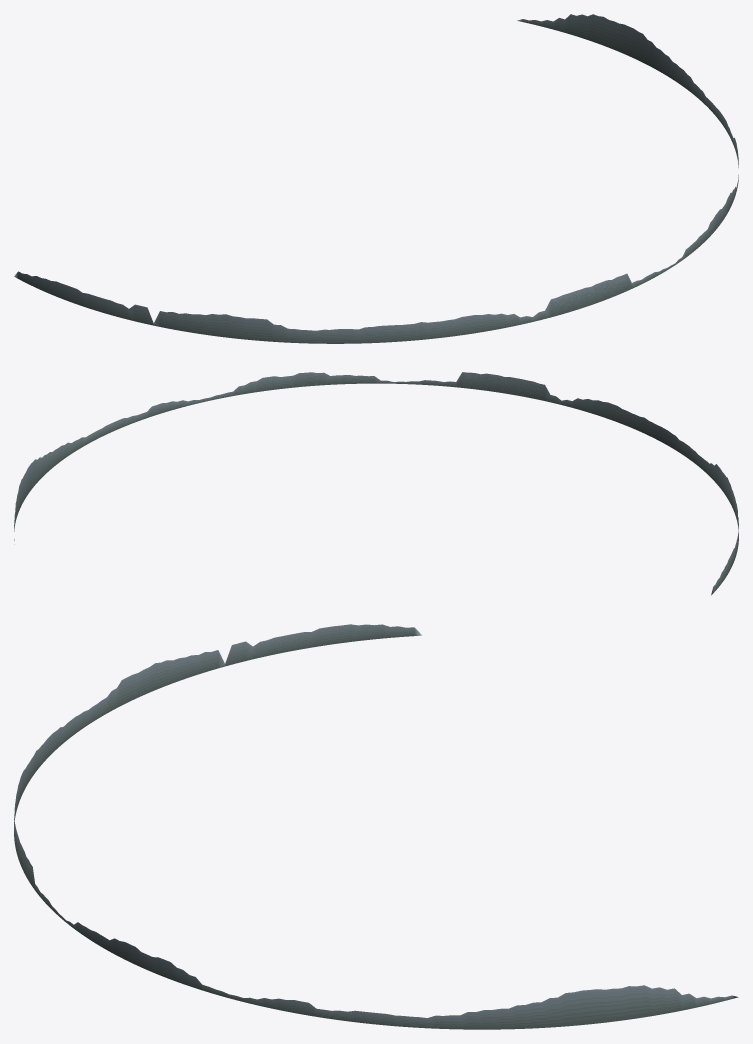
Rendered from SM_Fondale_Tenda.fbx.
3 renders of one model, top to bottom at view 1: azimuth 30°, elevation 25°; view 2: azimuth 150°, elevation 25°; view 3: azimuth 270°, elevation 25°, orthographic. The views are drawn at different scales.
Visible parts, largest first — view 1: SM_Fondale_Tenda; view 2: SM_Fondale_Tenda; view 3: SM_Fondale_Tenda.
Boxes of the visible parts, bbox=[...] form: SM_Fondale_Tenda: bbox=[14, 14, 738, 343]; SM_Fondale_Tenda: bbox=[14, 372, 738, 595]; SM_Fondale_Tenda: bbox=[14, 624, 738, 1029].
Bounding box in the file's own units: 2589445 × 2013712 × 105809.
1 material, 1 textured.
